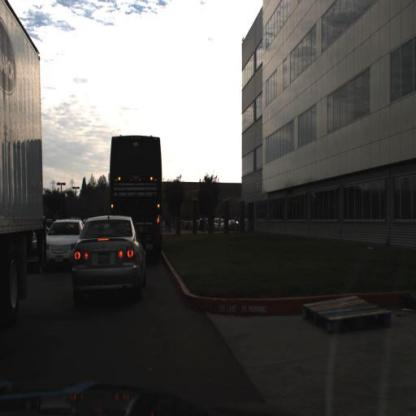car: (70, 214, 146, 288), (42, 215, 85, 266), (211, 214, 227, 232)
truck: (1, 1, 52, 321), (109, 134, 166, 252)
